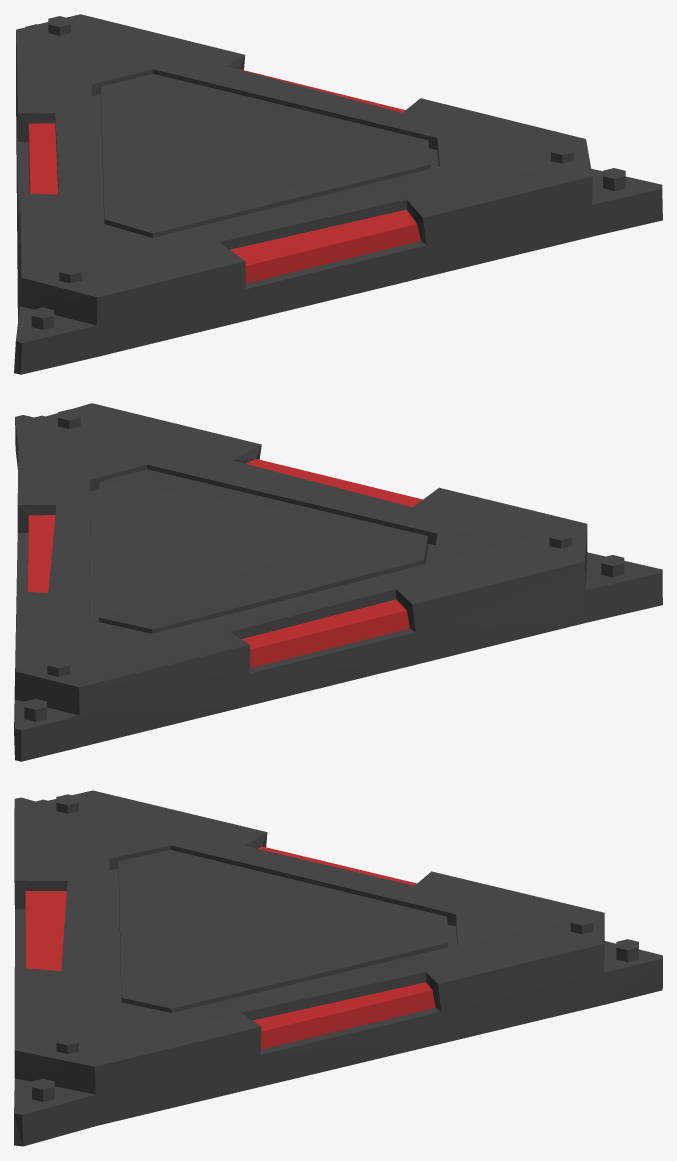
Rendered from TopArmor.fbx.
3 views of the same model, one above another, from view 1: azimuth 30°, elevation 25°; view 2: azimuth 150°, elevation 25°; view 3: azimuth 270°, elevation 25° (orthographic).
Parts seen in each view (by area): view 1: 装甲板, 灯条, 螺栓; view 2: 装甲板, 灯条, 螺栓; view 3: 装甲板, 灯条, 螺栓.
Part boxes in pixels (left/top/right/bottom): 装甲板: left=14, top=14, right=662, bottom=374; 灯条: left=28, top=69, right=420, bottom=283; 螺栓: left=25, top=16, right=625, bottom=329; 装甲板: left=14, top=403, right=662, bottom=761; 灯条: left=27, top=459, right=422, bottom=667; 螺栓: left=24, top=409, right=624, bottom=721; 装甲板: left=14, top=790, right=662, bottom=1146; 灯条: left=25, top=846, right=435, bottom=1049; 螺栓: left=32, top=794, right=638, bottom=1101.
Bounding box in the file's own units: 114 × 11.61 × 98.54.
